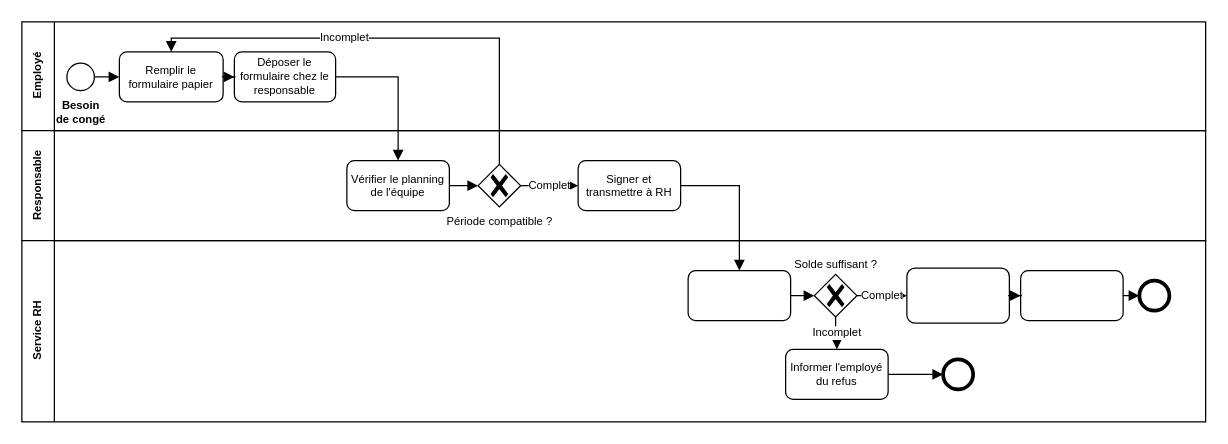
Image size: 1228x444. Some labels were removed from this diagram. The centre of each missing label's shape, as x and y in pixels:
"Congé accordé" goes at (x=1153, y=295).
"Demande refusée" goes at (x=957, y=373).
"Enregistrer le congé et mettre à jour le planning" goes at (x=957, y=295).
"Informer l'employé" goes at (x=1071, y=295).
"Vérifier le solde dans Excel" goes at (x=739, y=295).
